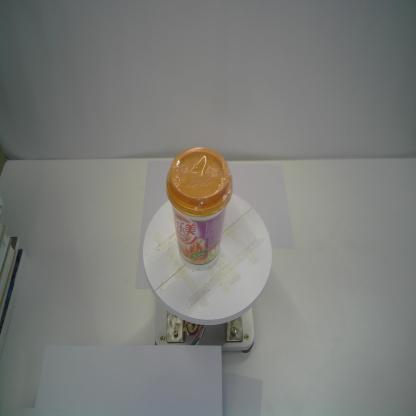Instant Drink: (166, 146, 233, 272)
